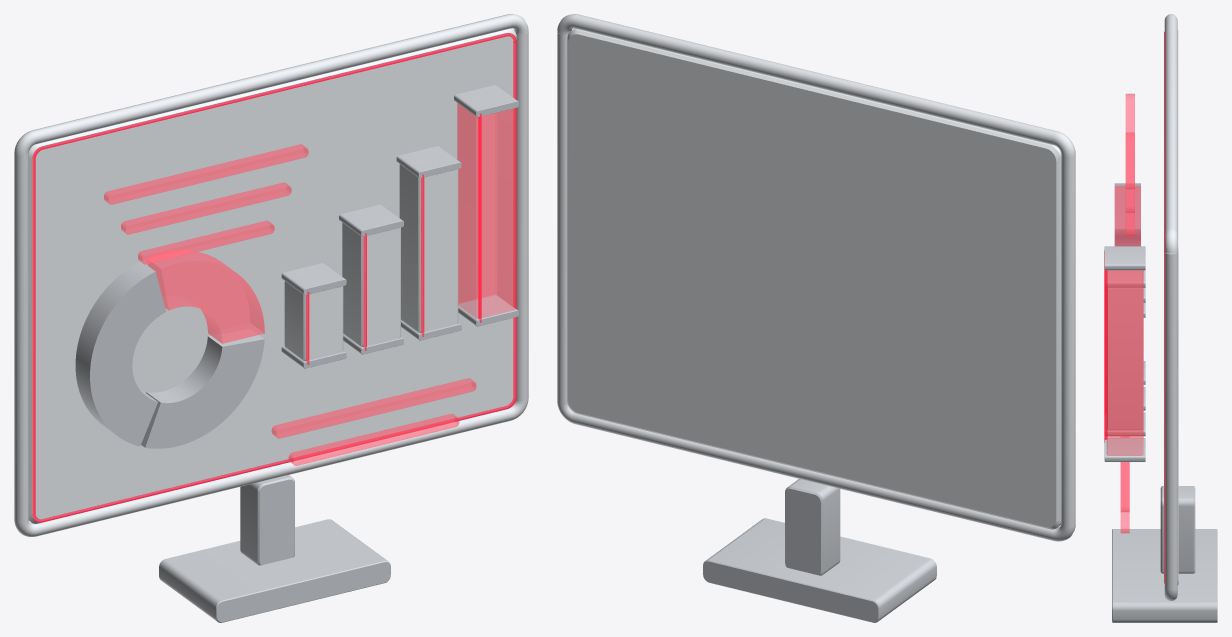
The model's file is 01-business-intelligence.glb.
3 views of the same model, side by side, from view 1: azimuth 30°, elevation 25°; view 2: azimuth 150°, elevation 25°; view 3: azimuth 270°, elevation 25° (orthographic). The views are drawn at different scales.
Parts seen in each view (by area): view 1: BC clear optical glass, BC satin silver metal, BC ruby optical glass, BC polished silver metal, BC neon red glass edge; view 2: BC clear optical glass, BC polished silver metal, BC satin silver metal; view 3: BC satin silver metal, BC ruby optical glass, BC polished silver metal, BC clear optical glass, BC neon red glass edge.
Boxes of the visible parts, box(x1,y1,x2,y2) form: BC clear optical glass: box(28, 28, 516, 523); BC satin silver metal: box(75, 85, 518, 622); BC ruby optical glass: box(104, 103, 515, 465); BC polished silver metal: box(14, 14, 528, 536); BC neon red glass edge: box(32, 33, 516, 522); BC clear optical glass: box(567, 28, 1061, 529); BC polished silver metal: box(557, 14, 1075, 541); BC satin silver metal: box(703, 479, 936, 622); BC satin silver metal: box(1104, 183, 1217, 622); BC ruby optical glass: box(1107, 93, 1143, 533); BC polished silver metal: box(1164, 14, 1177, 600); BC clear optical glass: box(1107, 30, 1178, 584); BC neon red glass edge: box(1104, 31, 1164, 583).
Bounding box in the file's own units: 2.05 × 1.94 × 0.4287.
